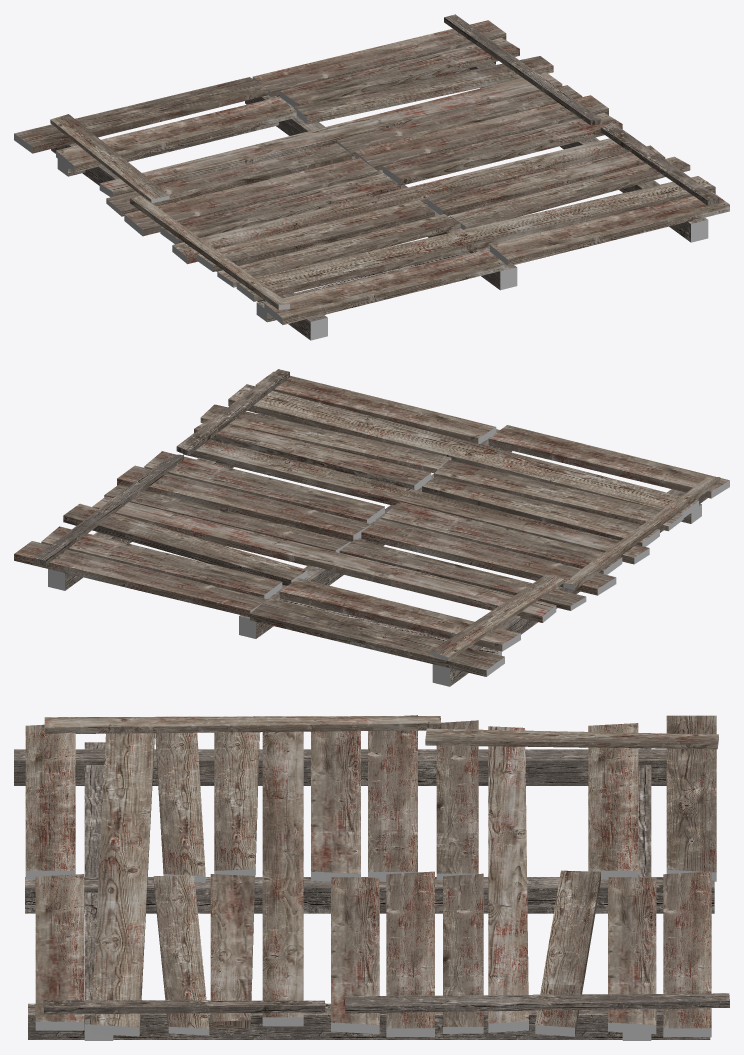
The model's file is Platform2_LOD1.fbx.
3 views of the same model, one above another, from view 1: azimuth 30°, elevation 25°; view 2: azimuth 150°, elevation 25°; view 3: azimuth 270°, elevation 25° (orthographic). The views are drawn at different scales.
Visible parts, largest first — view 1: polySurface1276; view 2: polySurface1276; view 3: polySurface1276.
Part boxes in pixels (<box>): polySurface1276: <box>14,14,729,340</box>; polySurface1276: <box>14,369,729,686</box>; polySurface1276: <box>14,715,729,1040</box>.
Bounding box in the file's own units: 5.32 × 0.3473 × 5.15.
